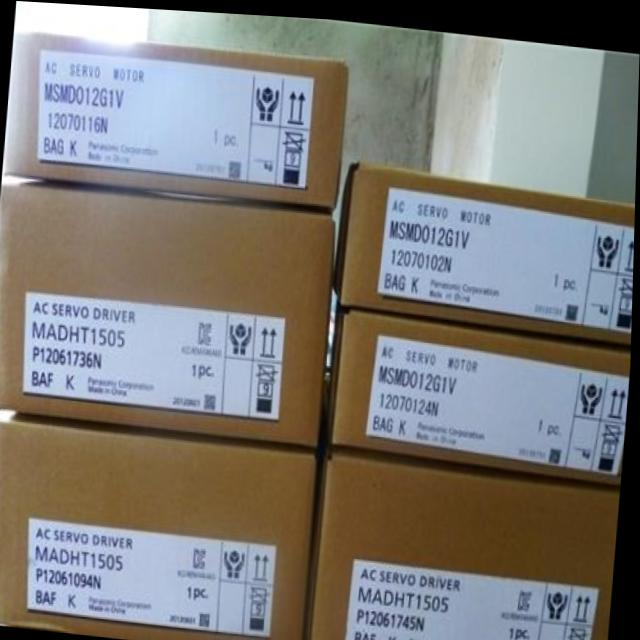box: (0, 177, 338, 443), (0, 408, 319, 640), (310, 432, 622, 640), (6, 34, 348, 208), (334, 154, 636, 343), (330, 293, 632, 479)
